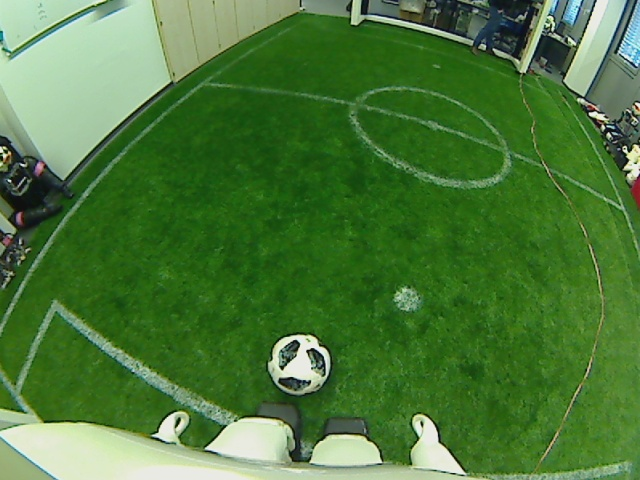ball: (266, 329, 331, 397)
